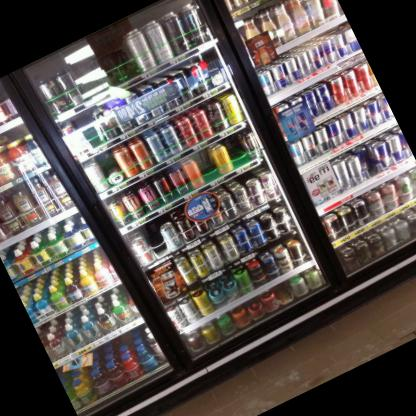empty_space: (61, 37, 110, 101), (99, 21, 142, 83), (85, 30, 125, 89), (72, 108, 105, 150), (141, 219, 171, 259)
